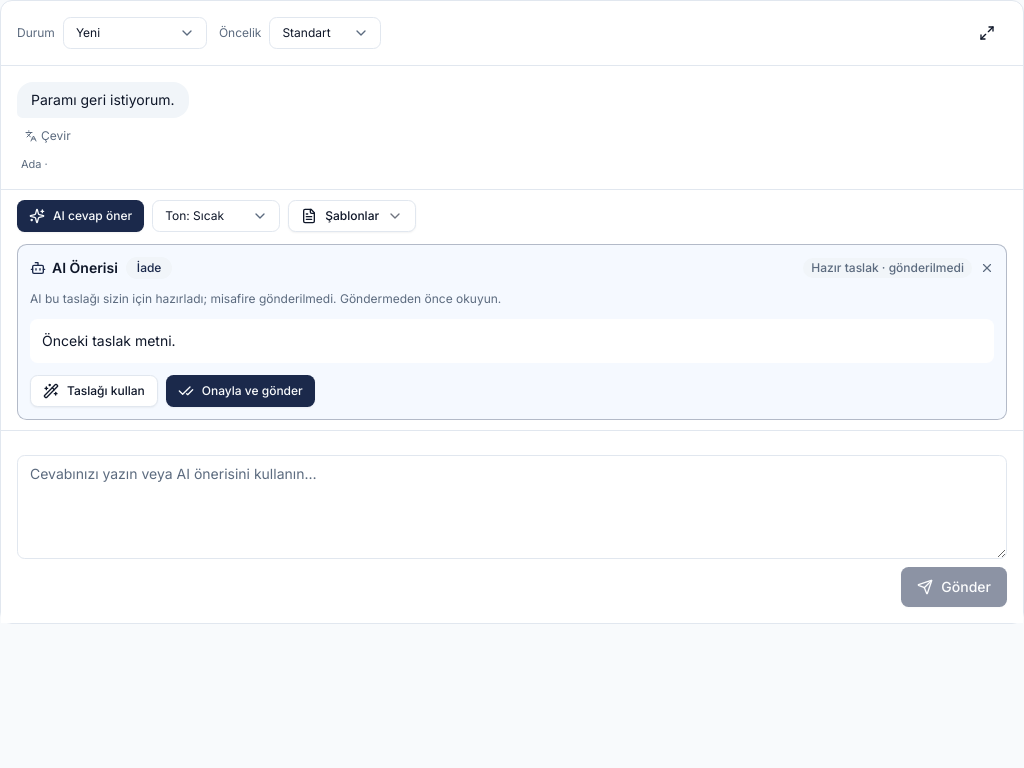
Scenario: konuşma ekranı — yapay zekâ önerisi hazırlanamadığında (3d) › 🚨 istek REDDEDİLİRSE de önceki taslak kaybolmaz: hata görünür, taslak yerinde
Click the button "AI cevap öner" at [81, 216], box [17,200,144,232]
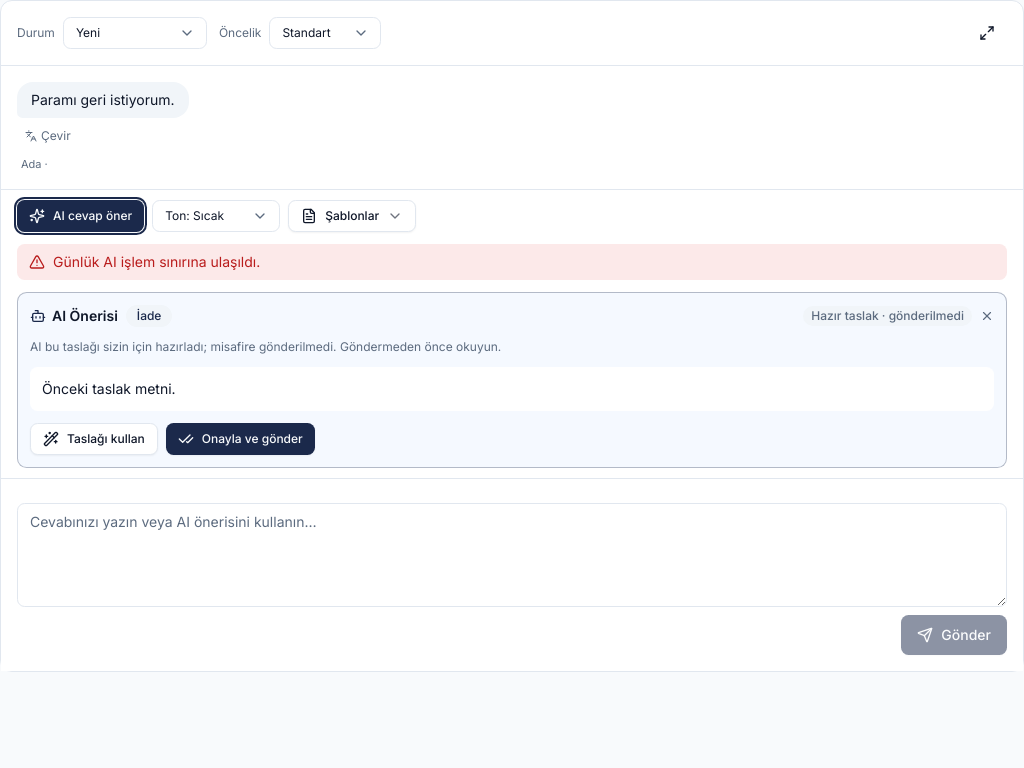
Expected: the text "Önceki taslak metni." is shown, [30,366,994,410]
Now the text "Günlük AI işlem sınırına ulaşıldı." is shown, box [53,252,260,272]
